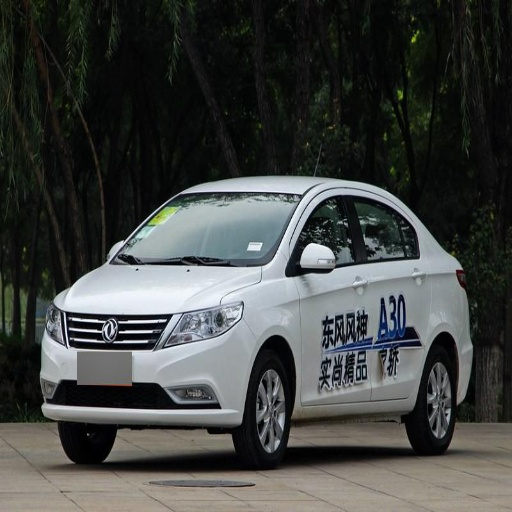back_left_door: (349, 192, 427, 398)
front_bumper: (42, 309, 257, 423)
front_glass: (110, 196, 300, 265)
front_left_door: (289, 192, 373, 404)
